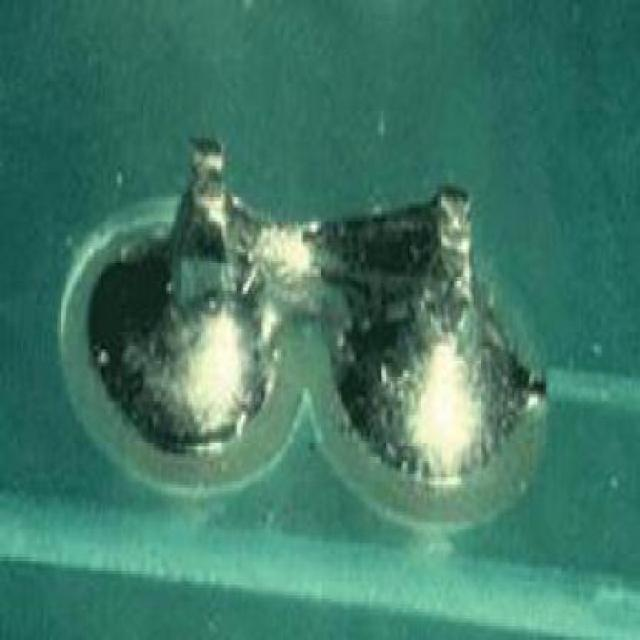Soldering shorted: (66, 104, 545, 488)
